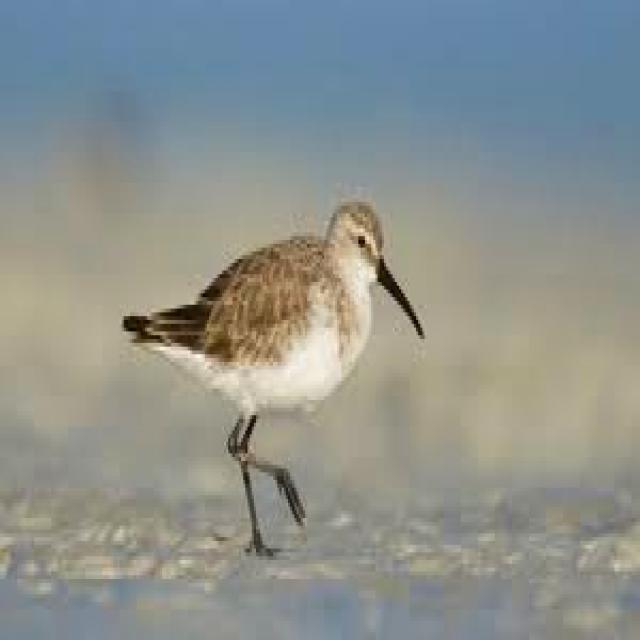sandpiper: (122, 202, 422, 552)
